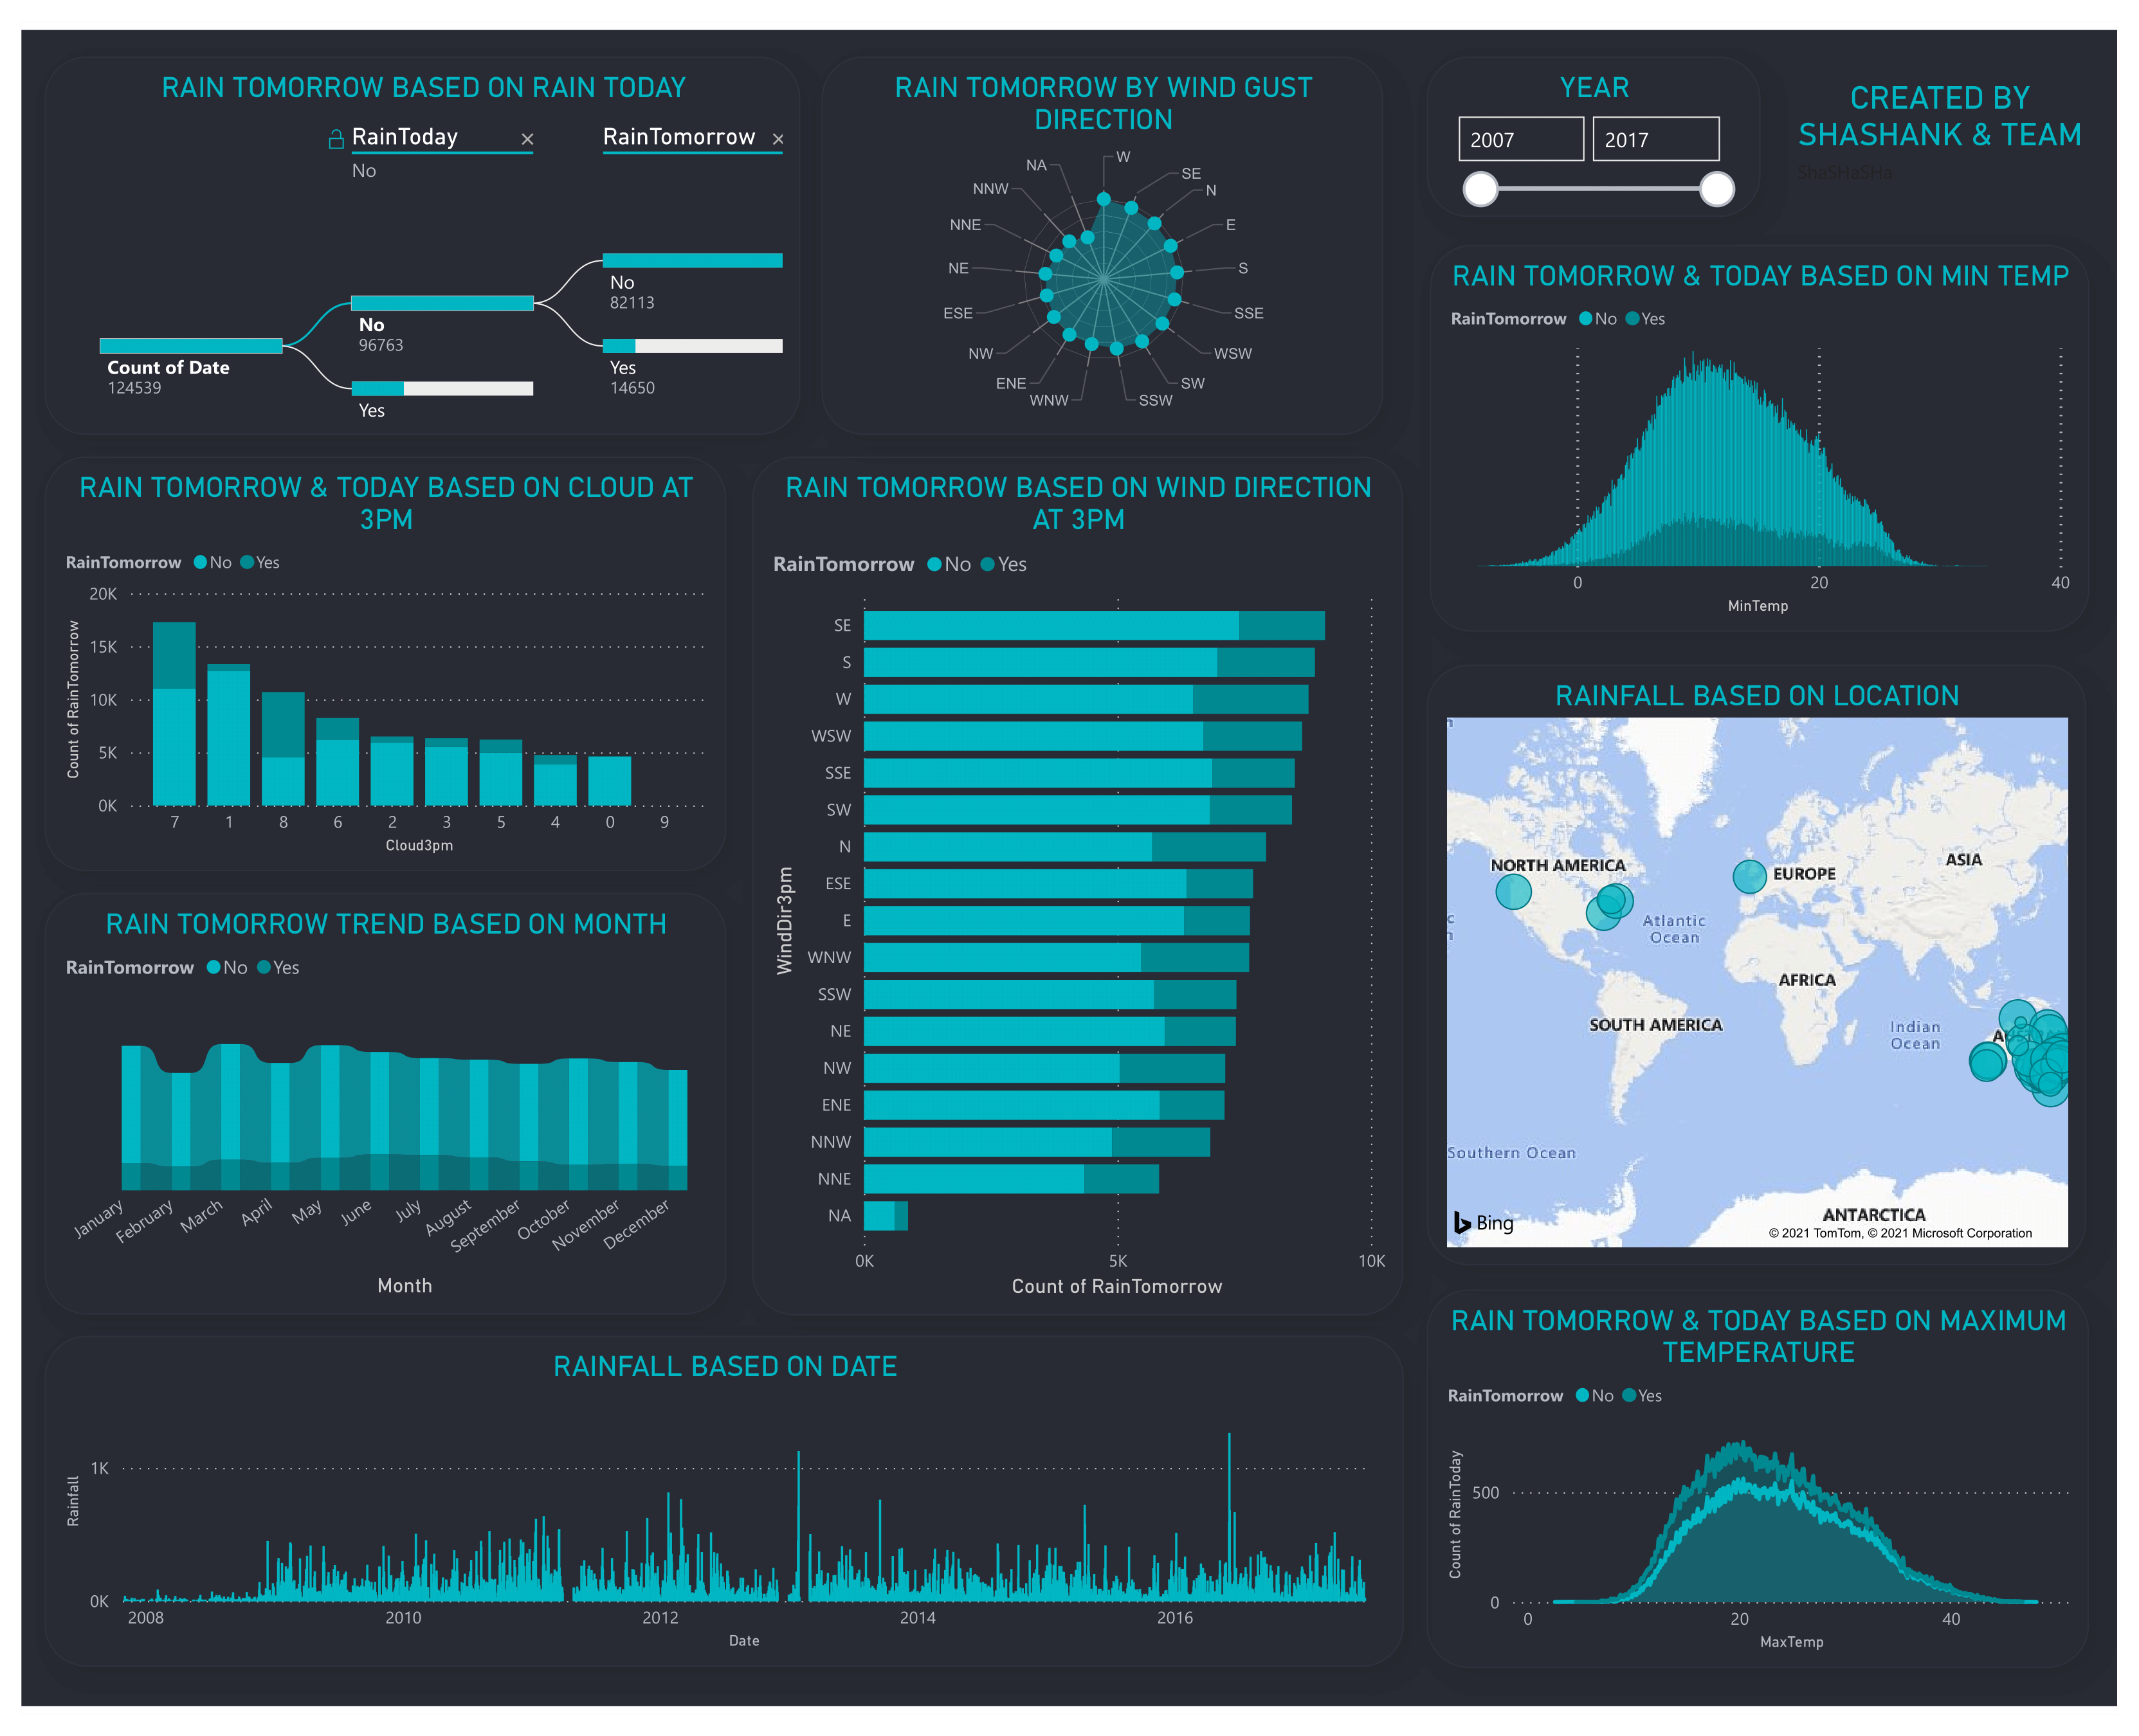

Layout of this report page (visuals, bound fields, positions):
{"tool":"powerbi","page":{"name":"Page 1","canvas":[1500,1200],"ordinal":0},"visuals":[{"type":"columnChart","title":"RAIN TOMORROW & TODAY BASED ON CLOUD AT 3PM","fields":{"Series":["weatherAUS.RainTomorrow"],"Y":["weatherAUS.RainTomorrow"],"Category":["weatherAUS.Cloud3pm","weatherAUS.Cloud9am"]},"box":[15.9,304.5,487.6,296.5],"z":0},{"type":"decompositionTreeVisual","title":"RAIN TOMORROW BASED ON RAIN TODAY","fields":{"Analyze":["weatherAUS.Date"],"ExplainBy":["weatherAUS.RainToday","weatherAUS.RainTomorrow"]},"box":[15.9,17.9,541.3,270.6],"z":1000},{"type":"ribbonChart","title":"RAIN TOMORROW TREND BASED ON MONTH","fields":{"Category":["weatherAUS.Date.Variation.Date Hierarchy.Month"],"Y":["weatherAUS.RainTomorrow"],"Series":["weatherAUS.RainTomorrow"]},"box":[15.9,616.9,487.6,302.5],"z":2000},{"type":"barChart","title":"RAIN TOMORROW BASED ON WIND DIRECTION AT 3PM","fields":{"Category":["weatherAUS.WindDir3pm"],"Y":["weatherAUS.RainTomorrow"],"Series":["weatherAUS.RainTomorrow"]},"box":[523.4,304.5,465.7,614.9],"z":3000},{"type":"RadarChart1446119667547","title":"RAIN TOMORROW BY WIND GUST DIRECTION","fields":{"Category":["weatherAUS.WindGustDir"],"Y":["weatherAUS.RainTomorrow"]},"box":[573.1,17.9,402,270.6],"z":4000},{"type":"ribbonChart","title":"RAIN TOMORROW & TODAY BASED ON MIN TEMP","fields":{"Category":["weatherAUS.MinTemp"],"Series":["weatherAUS.RainTomorrow"],"Y":["weatherAUS.Date"]},"box":[1009,153.2,471.6,276.6],"z":5000},{"type":"stackedAreaChart","title":"RAIN TOMORROW & TODAY BASED ON MAXIMUM TEMPERATURE","fields":{"Category":["weatherAUS.MaxTemp"],"Series":["weatherAUS.RainTomorrow"],"Y":["weatherAUS.RainToday"]},"box":[1007,901.5,473.6,270.6],"z":6000},{"type":"map","title":"RAINFALL BASED ON LOCATION","fields":{"Category":["weatherAUS.Location"],"Size":["weatherAUS.RainTomorrow"]},"box":[1007,453.7,471.6,429.9],"z":7000},{"type":"clusteredColumnChart","title":"RAINFALL BASED ON DATE","fields":{"Category":["weatherAUS.Date"],"Y":["weatherAUS.Rainfall"]},"box":[15.9,935.3,973.1,236.8],"z":8000},{"type":"slicer","title":"YEAR","fields":{"Values":["weatherAUS.Date.Variation.Date Hierarchy.Year"]},"box":[1007,17.9,238.8,115.4],"z":9000},{"type":"textbox","title":"CREATED BY  SHASHANK & TEAM","box":[1265.7,35.8,214.9,79.6],"z":10000}]}

Visuals, with their boxes in screenshot pixels (x1, y1, x2, y2), scaled from the page's 1500x1200 canvas onto the 2139x1736 screenshot:
"RAIN TOMORROW & TODAY BASED ON CLOUD AT 3PM" columnChart: Rect(23, 440, 718, 869)
"RAIN TOMORROW BASED ON RAIN TODAY" decompositionTreeVisual: Rect(23, 26, 794, 417)
"RAIN TOMORROW TREND BASED ON MONTH" ribbonChart: Rect(23, 892, 718, 1330)
"RAIN TOMORROW BASED ON WIND DIRECTION AT 3PM" barChart: Rect(747, 440, 1410, 1330)
"RAIN TOMORROW BY WIND GUST DIRECTION" RadarChart1446119667547: Rect(817, 26, 1390, 417)
"RAIN TOMORROW & TODAY BASED ON MIN TEMP" ribbonChart: Rect(1439, 222, 2111, 622)
"RAIN TOMORROW & TODAY BASED ON MAXIMUM TEMPERATURE" stackedAreaChart: Rect(1436, 1304, 2111, 1695)
"RAINFALL BASED ON LOCATION" map: Rect(1436, 656, 2109, 1278)
"RAINFALL BASED ON DATE" clusteredColumnChart: Rect(23, 1353, 1410, 1695)
"YEAR" slicer: Rect(1436, 26, 1776, 193)
"CREATED BY  SHASHANK & TEAM" textbox: Rect(1805, 52, 2111, 167)
